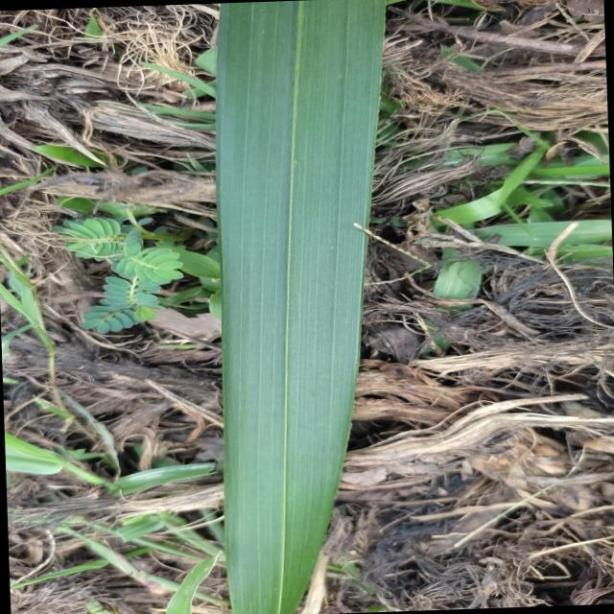Healthy: (211, 0, 385, 614)
